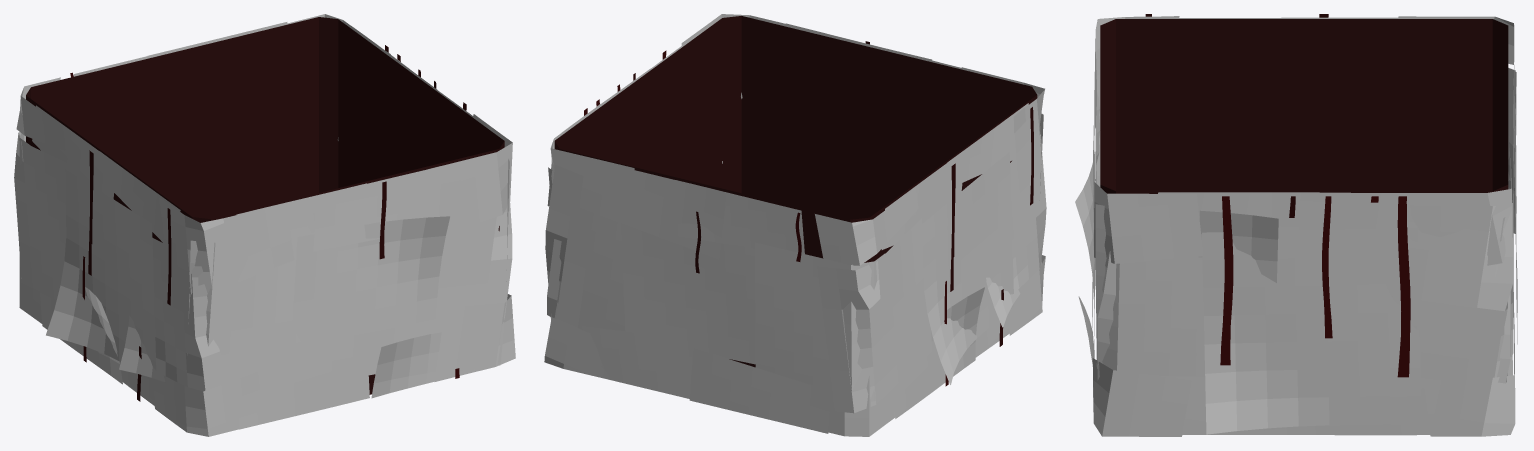
The model's file is ps_block@2.glb.
The picture shows the model from 3 angles, left to right: view 1: azimuth 30°, elevation 25°; view 2: azimuth 150°, elevation 25°; view 3: azimuth 270°, elevation 25°; orthographic projection. The views are drawn at different scales.
Visible parts, largest first — view 1: teil1, teil0, teil2; view 2: teil1, teil0, teil2; view 3: teil1, teil0, teil3.
Part boxes in pixels (box(x1,y1,x2,y2)): teil1: box(14, 14, 515, 436); teil0: box(26, 17, 504, 394); teil2: box(88, 81, 436, 401); teil1: box(544, 14, 1046, 436); teil0: box(554, 16, 1037, 367); teil2: box(633, 41, 1033, 346); teil1: box(1075, 16, 1517, 436); teil0: box(1100, 19, 1508, 193); teil3: box(1220, 196, 1410, 377).
Size of the model in its own units: 1.04 by 0.59 by 0.9811.
